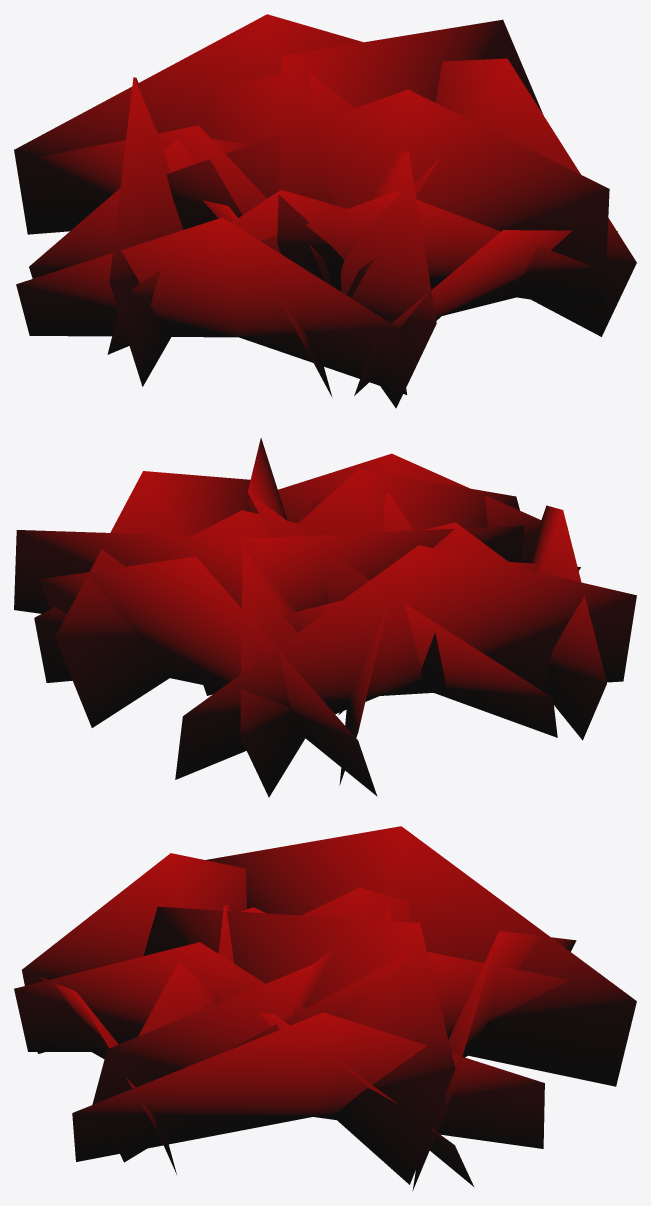
File: Grass3.fbx
The picture shows the model from 3 angles, top to bottom: view 1: azimuth 30°, elevation 25°; view 2: azimuth 150°, elevation 25°; view 3: azimuth 270°, elevation 25°; orthographic projection. The views are drawn at different scales.
Parts seen in each view (by area): view 1: Grass3; view 2: Grass3; view 3: Grass3.
Boxes of the visible parts, x1,y1,x2,y2 form: Grass3: (14, 14, 636, 408); Grass3: (14, 438, 636, 797); Grass3: (14, 826, 636, 1190).
Size of the model in its own units: 330 by 112 by 321.
